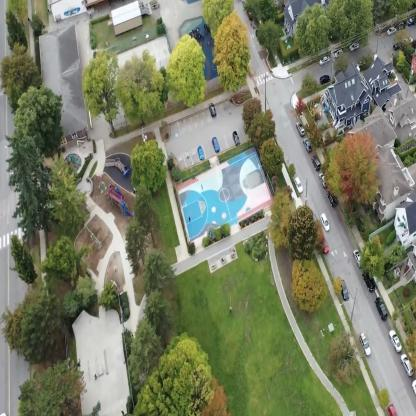Coniferous Tree: (9, 140, 49, 226), (45, 154, 87, 226), (328, 331, 360, 378), (8, 236, 36, 280), (144, 250, 172, 294), (144, 292, 170, 332), (5, 10, 28, 52)
Deciduous Tree: (148, 347, 225, 410), (326, 128, 379, 209), (5, 290, 60, 351), (82, 49, 123, 125), (116, 52, 163, 117), (19, 374, 81, 416), (16, 90, 62, 146), (215, 15, 249, 90), (169, 36, 207, 100), (0, 54, 38, 106), (293, 258, 323, 321), (300, 1, 326, 64), (132, 143, 169, 186), (283, 212, 314, 262), (45, 236, 83, 276), (268, 194, 295, 246), (262, 138, 284, 173), (248, 113, 272, 142), (242, 100, 261, 121)
